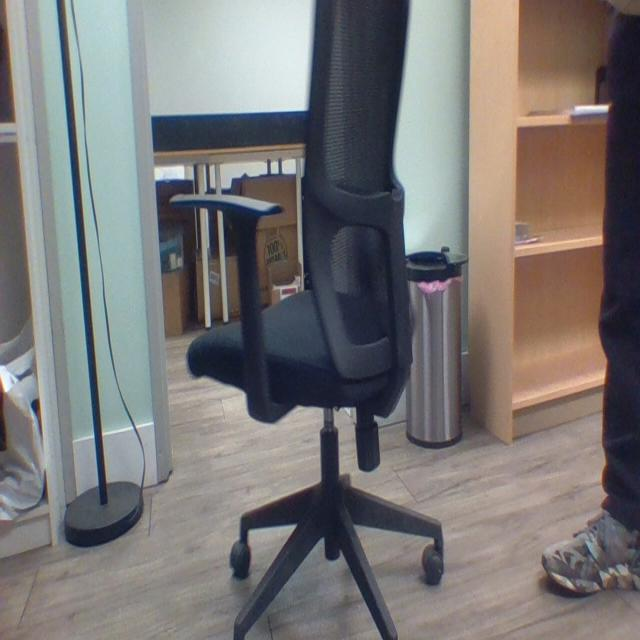black-chair: (172, 7, 448, 639)
